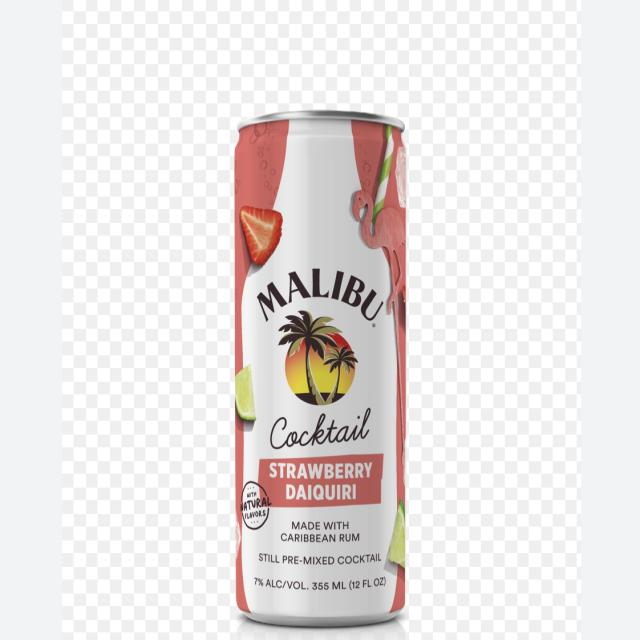recyclable: (177, 71, 457, 638)
